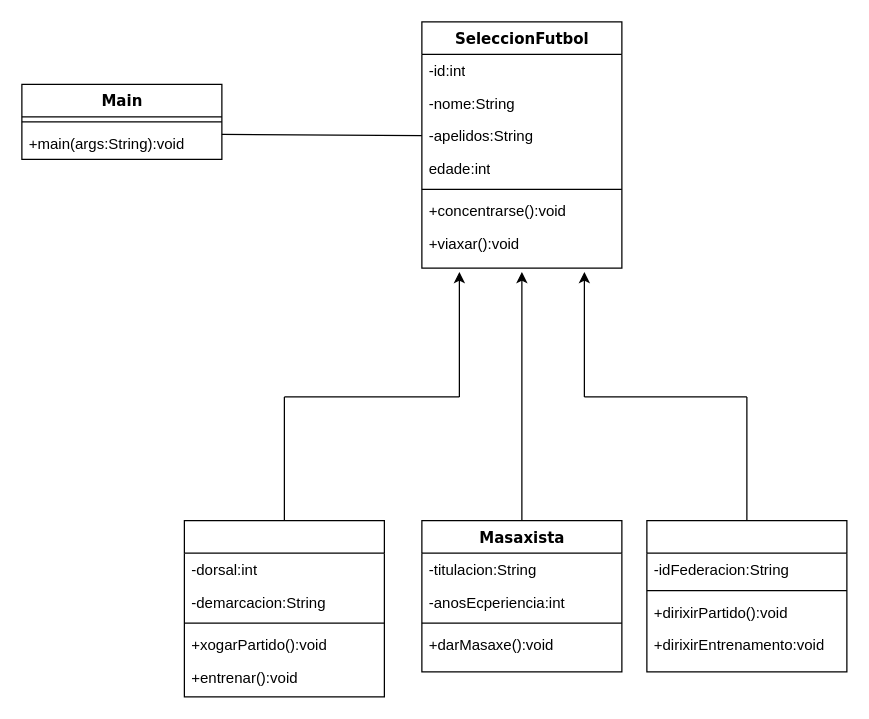
Image size: 869x719. Some labels were removed from this diagram. Each missing label, with the box of its shape:
Entrenador: (646, 519, 847, 672)
Futbolista: (183, 519, 384, 697)
